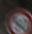Speed Limit -50-: (0, 0, 31, 33)
